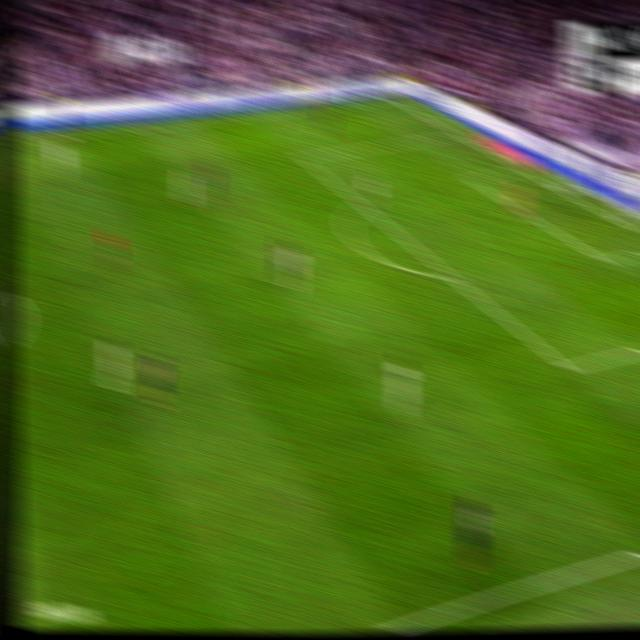bigarea_bottom_inner: (556, 354, 578, 380)
bigarea_top_inner: (296, 148, 311, 163)
bigarea_top_outter: (449, 125, 465, 140)
bottom_arc_area_intersection: (442, 266, 461, 287)
corner: (385, 92, 401, 104)
smallarea_bottom_inner: (595, 249, 615, 270)
smallarea_top_inner: (464, 173, 477, 184)
top_arc_area_intersection: (353, 194, 371, 212)
